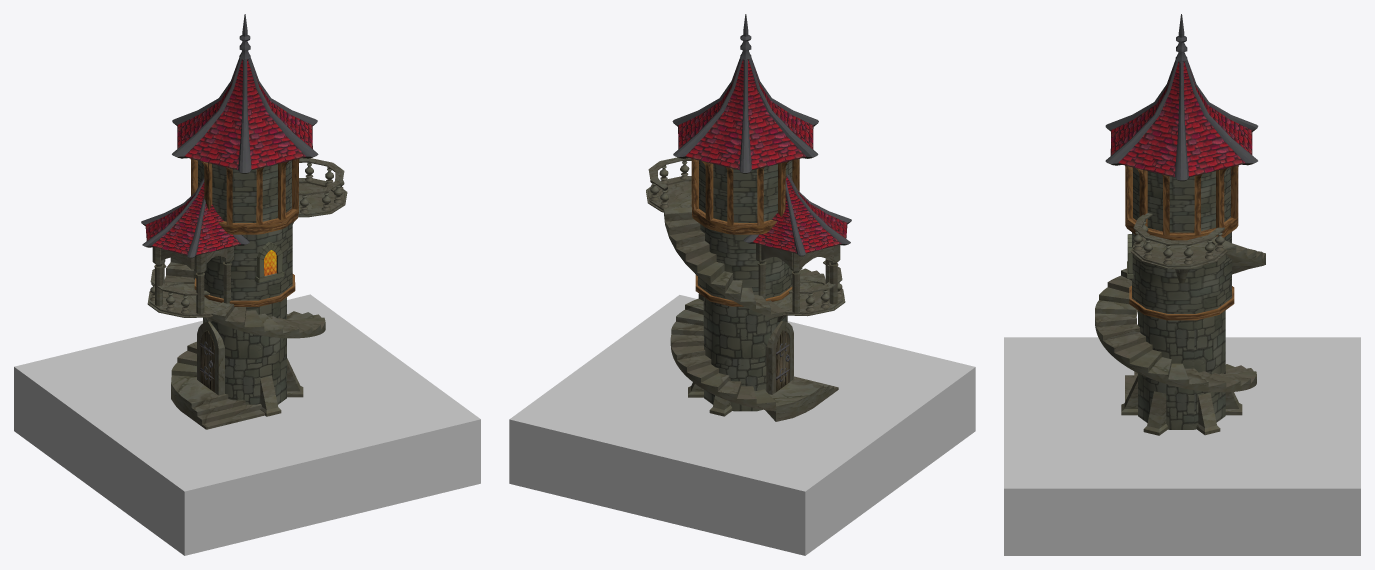
The model's file is Tower 1.fbx.
3 views of the same model, side by side, from view 1: azimuth 30°, elevation 25°; view 2: azimuth 150°, elevation 25°; view 3: azimuth 270°, elevation 25° (orthographic). The views are drawn at different scales.
Parts seen in each view (by area): view 1: Plane001, Tower01; view 2: Plane001, Tower01; view 3: Plane001, Tower01.
Boxes of the visible parts, x1,y1,x2,y2 form: Plane001: (14, 294, 480, 555); Tower01: (141, 14, 347, 429); Plane001: (509, 295, 975, 555); Tower01: (646, 14, 851, 421); Plane001: (1004, 337, 1360, 555); Tower01: (1095, 14, 1265, 435).
Bounding box in the file's own units: 188 × 269 × 187.
